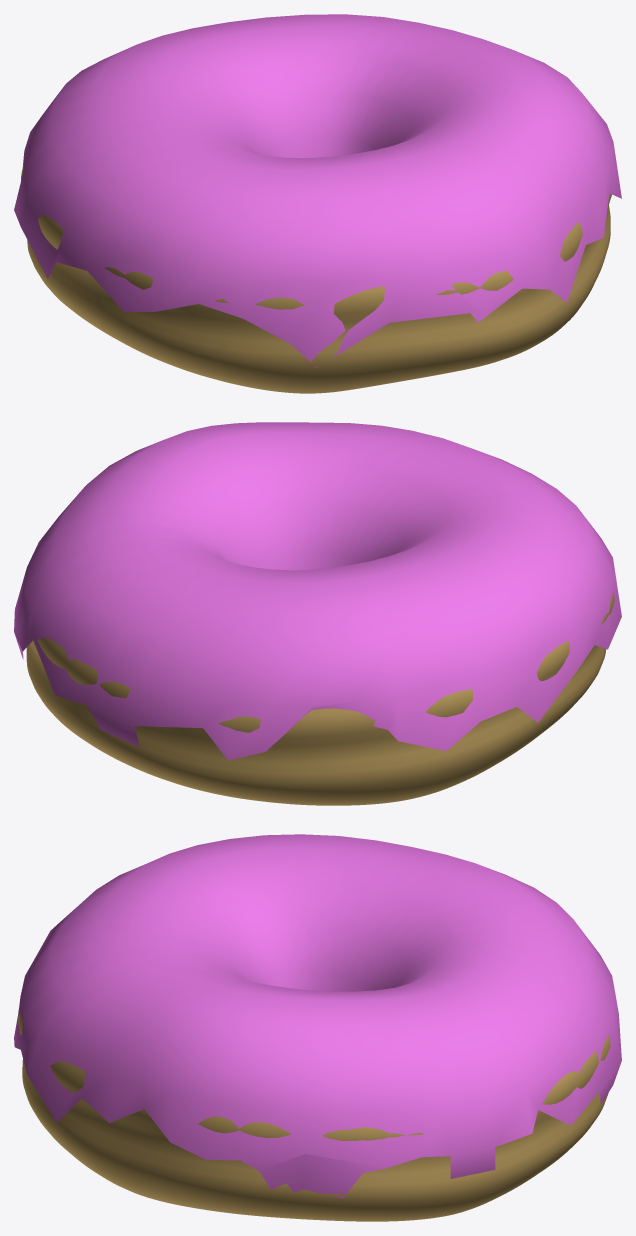
The model's file is donut.glb.
3 renders of one model, top to bottom at view 1: azimuth 30°, elevation 25°; view 2: azimuth 150°, elevation 25°; view 3: azimuth 270°, elevation 25°, orthographic.
Parts seen in each view (by area): view 1: Icing, Donut; view 2: Icing, Donut; view 3: Icing, Donut.
Boxes of the visible parts, x1=… form: Icing: x1=14, y1=14, x2=621, y2=367; Donut: x1=21, y1=165, x2=611, y2=393; Icing: x1=14, y1=422, x2=621, y2=760; Donut: x1=26, y1=592, x2=614, y2=805; Icing: x1=14, y1=834, x2=621, y2=1198; Donut: x1=18, y1=1009, x2=610, y2=1221.
Size of what is drawn, in the model's own units: 0.098 by 0.0394 by 0.0985.
